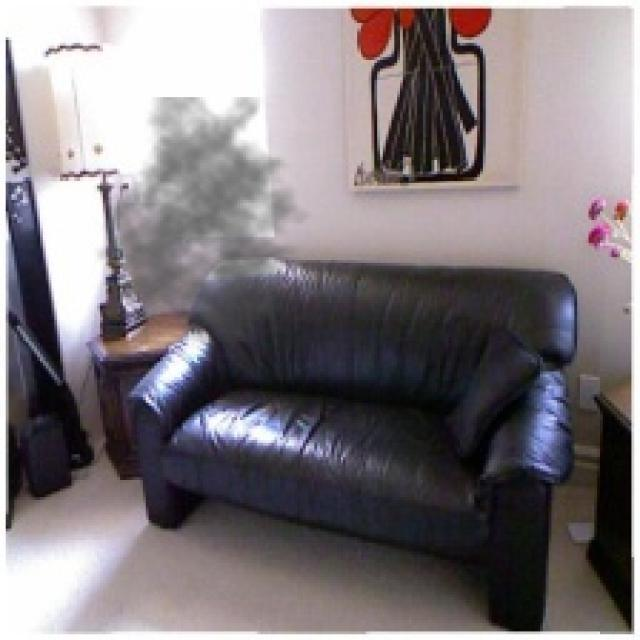Smoke: (94, 97, 323, 346)
